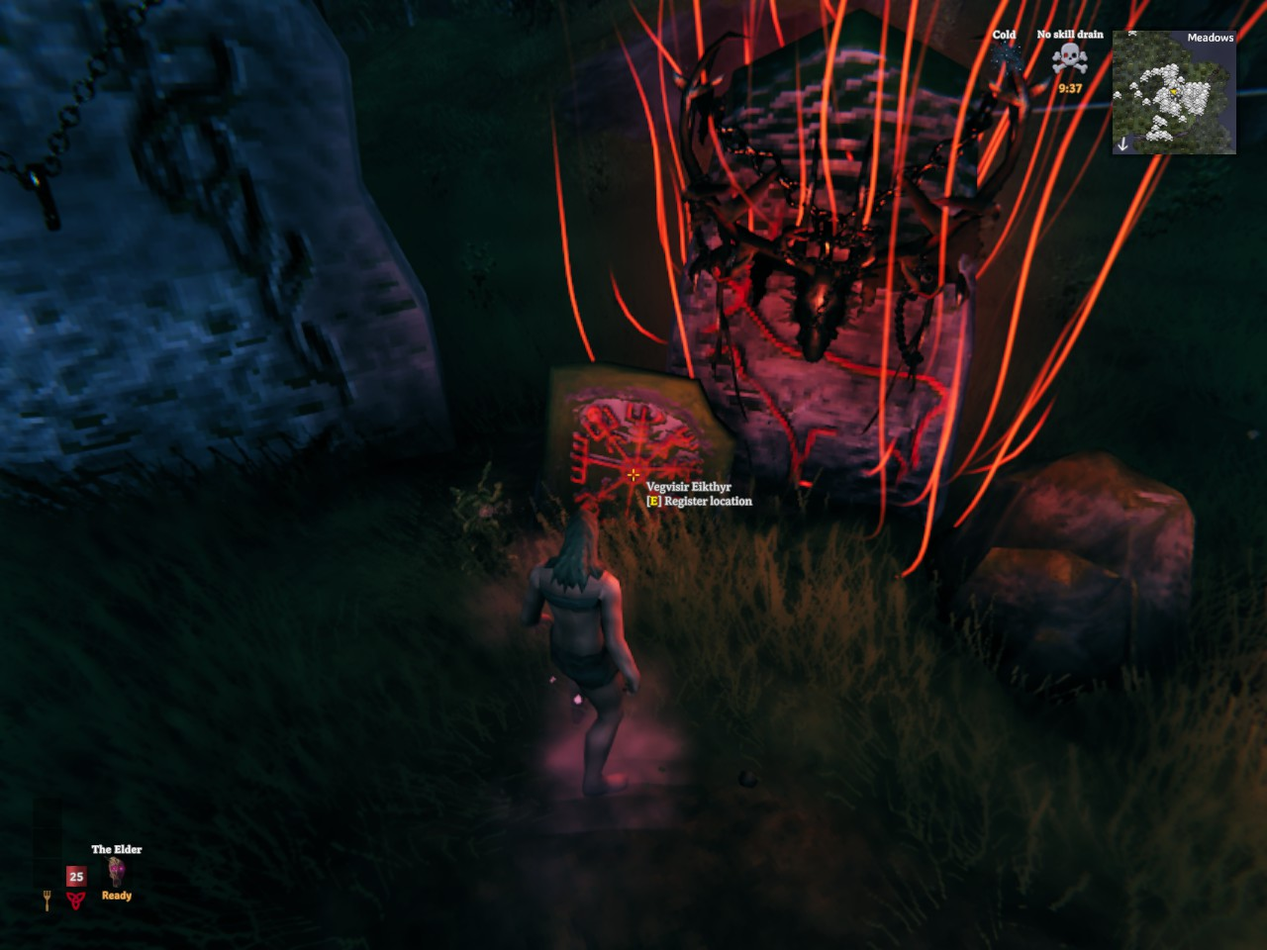Rune Stone: (542, 363, 735, 517)
